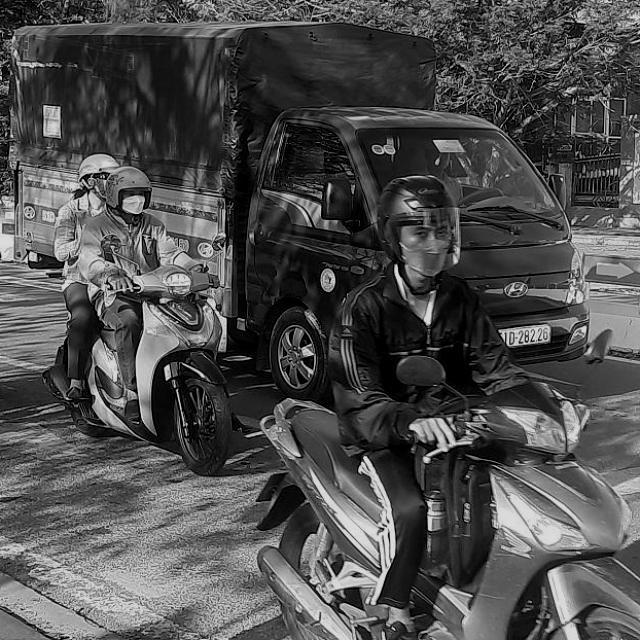Helmet: (374, 176, 472, 286), (104, 166, 160, 223), (77, 151, 114, 197)
